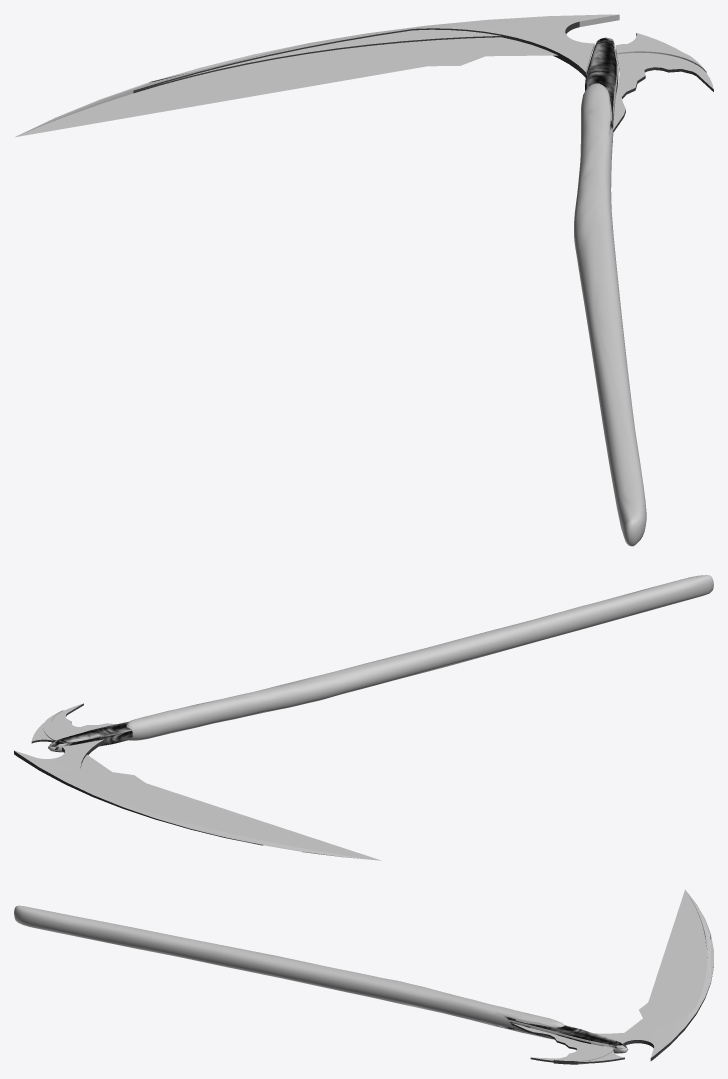
Rendered from sickle.fbx.
3 renders of one model, top to bottom at view 1: azimuth 30°, elevation 25°; view 2: azimuth 150°, elevation 25°; view 3: azimuth 270°, elevation 25°, orthographic. The views are drawn at different scales.
Parts seen in each view (by area): view 1: Group2, Group5, Group4; view 2: Group5, Group2, Group4; view 3: Group5, Group2, Group4.
Part boxes in pixels (<box>): Group2: <box>15,14,713,137</box>; Group5: <box>574,83,646,546</box>; Group4: <box>585,37,618,142</box>; Group5: <box>126,575,713,740</box>; Group2: <box>14,703,381,860</box>; Group4: <box>48,722,132,752</box>; Group5: <box>14,905,564,1039</box>; Group2: <box>511,889,713,1064</box>; Group4: <box>498,1014,628,1053</box>.
Size of the model in its own units: 8.76 by 0.5095 by 14.93.
